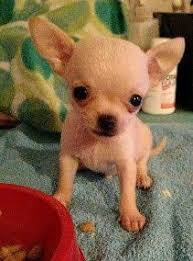chihuahua: (23, 12, 187, 230)
